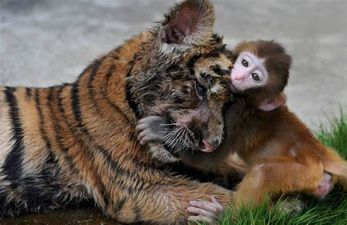monkey: (227, 17, 347, 205)
